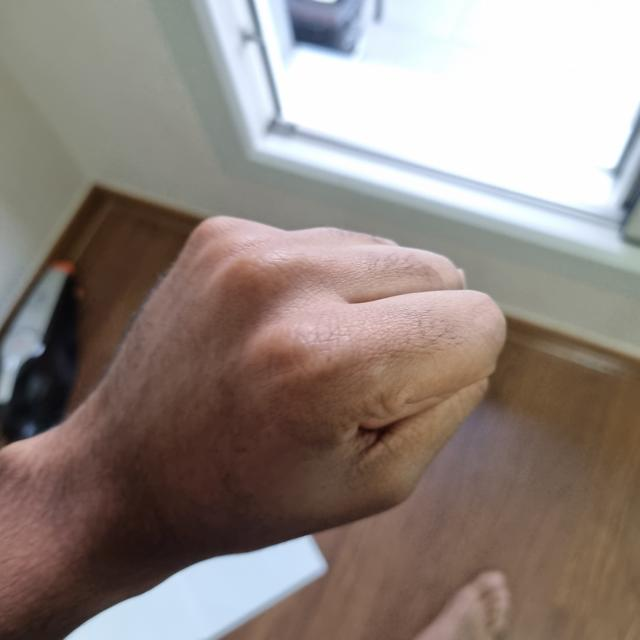Rock: (82, 219, 497, 552)
